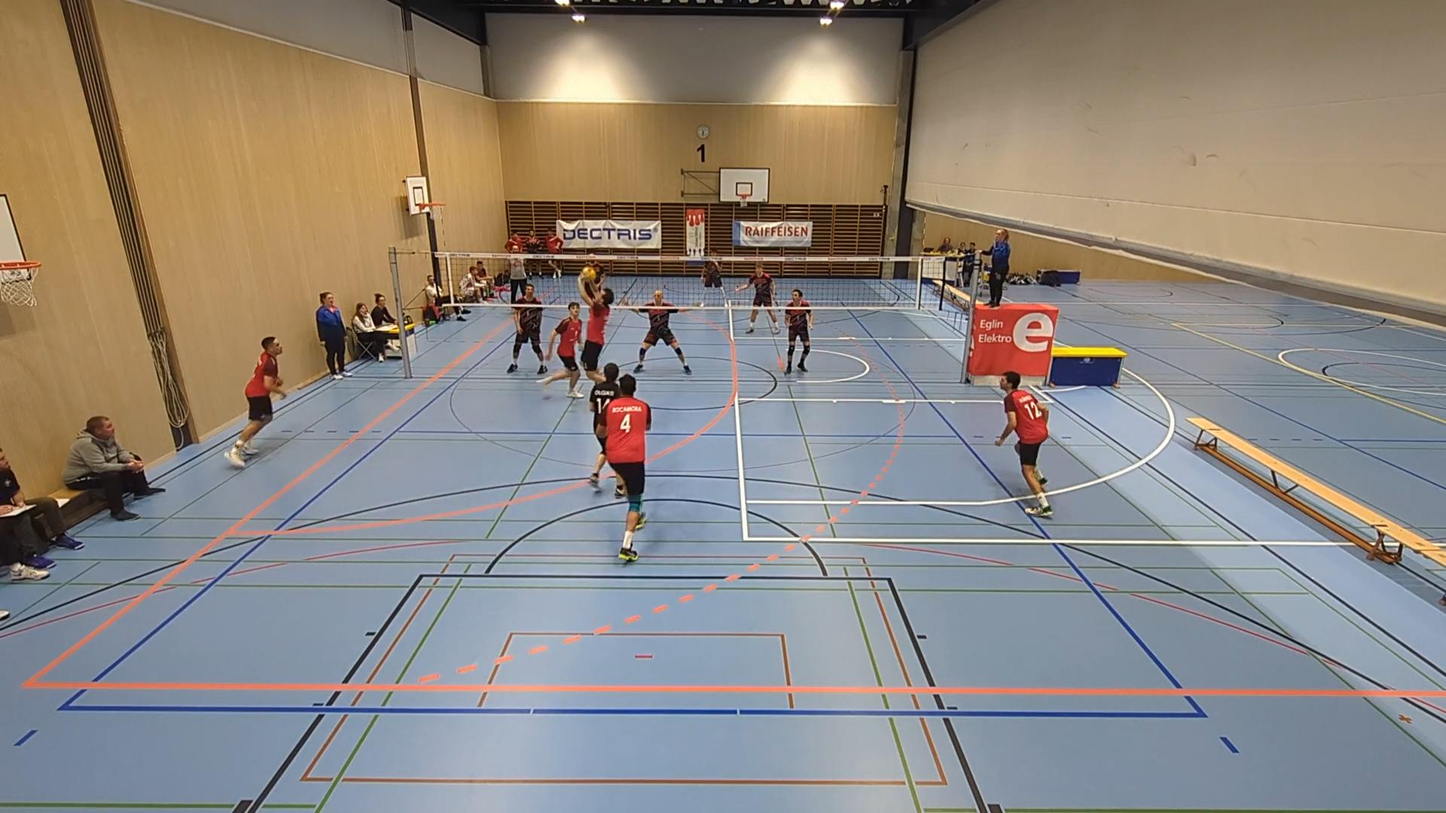alzata: (572, 274, 620, 391)
